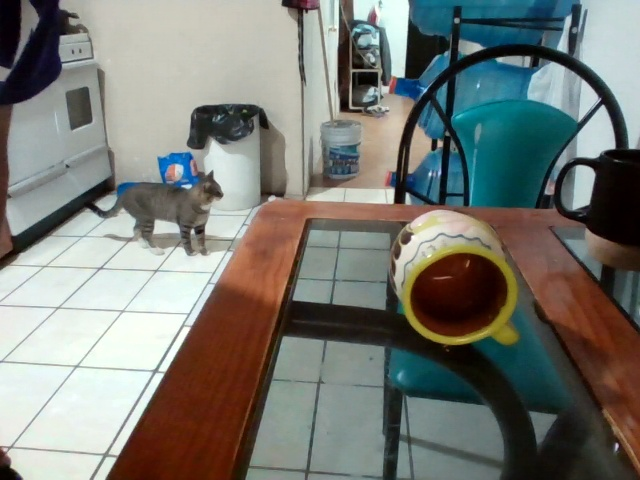taza: (553, 147, 640, 247)
